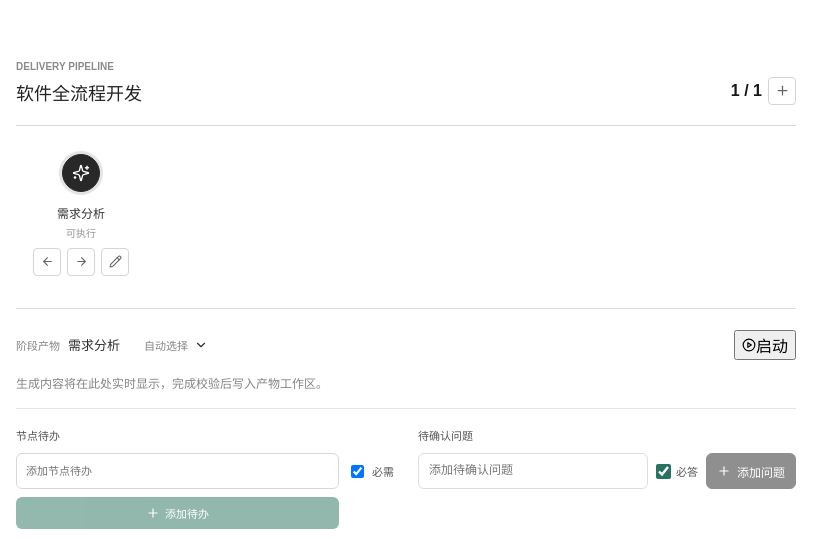
RequirementDetailPage AI run controls › creates a required node question without optimistic insertion
(page scrolled)
In the field named "新建节点问题": (533, 471) [418,453,648,489], type "Confirm the rollout owner"
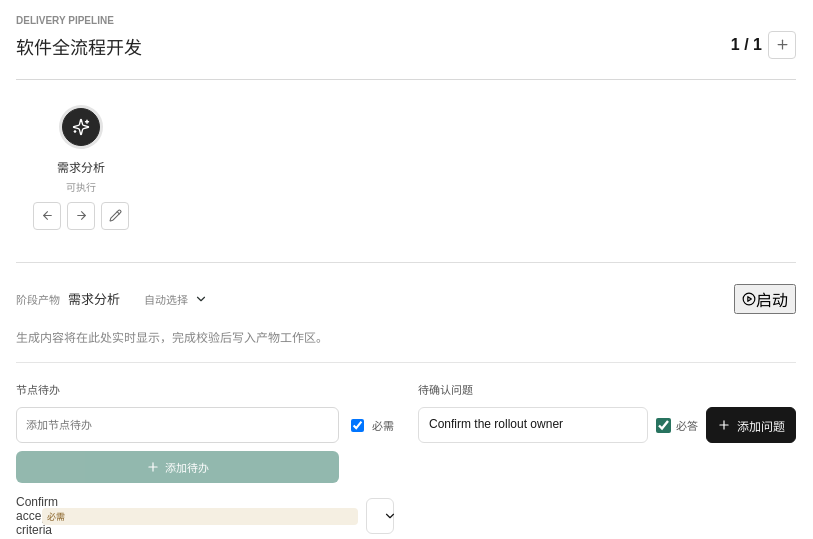
Click the button "添加问题": (751, 425) [706,407,796,443]
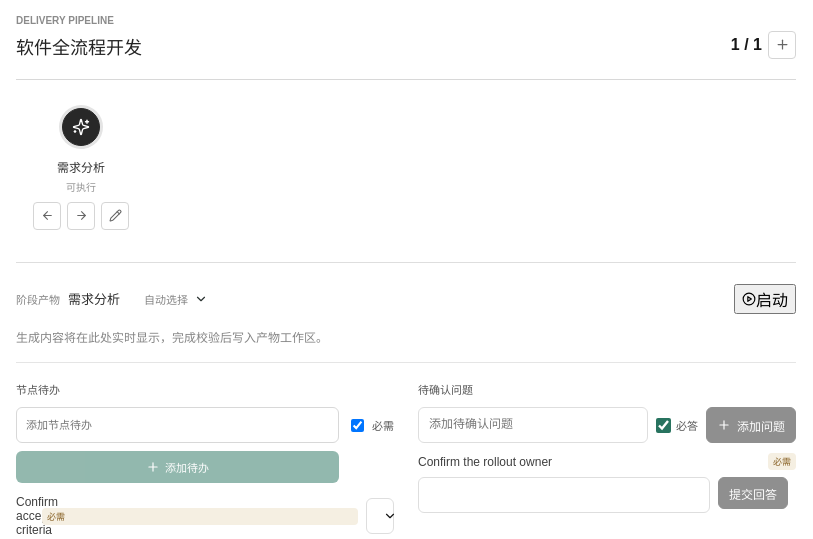
Expected: the text "Confirm the rollout owner" is shown, [418,454,552,468]
